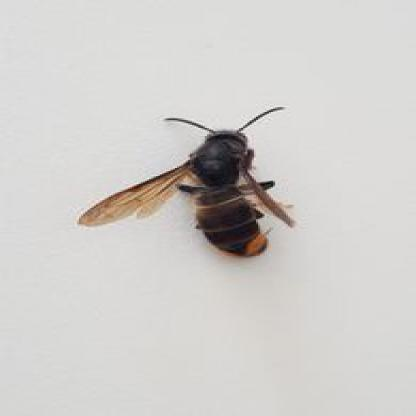Asian Hornet: (158, 88, 296, 267)
